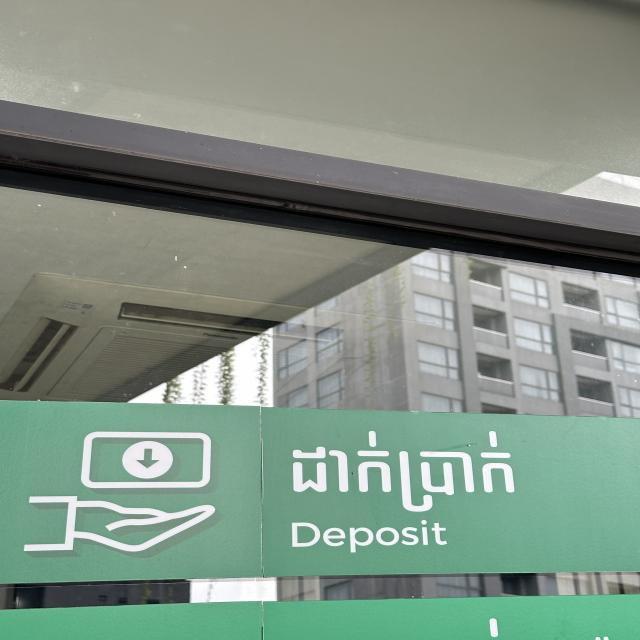Yolov11_80vkh: (271, 428, 528, 518)
